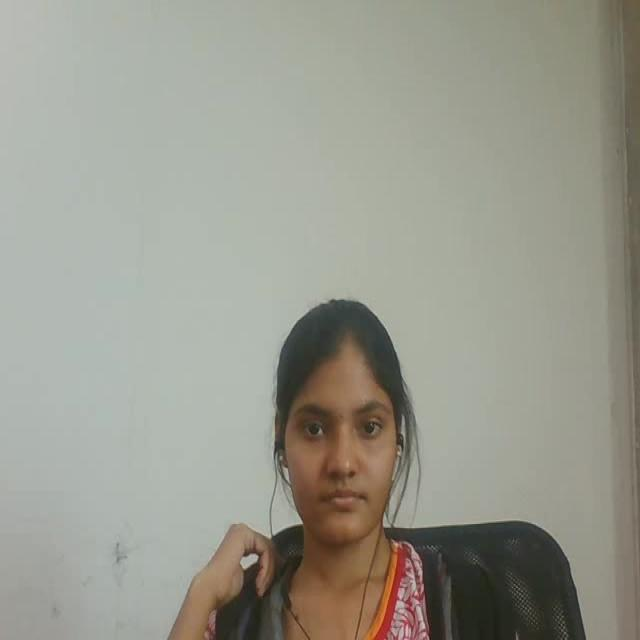Engaged: (255, 272, 459, 566)
